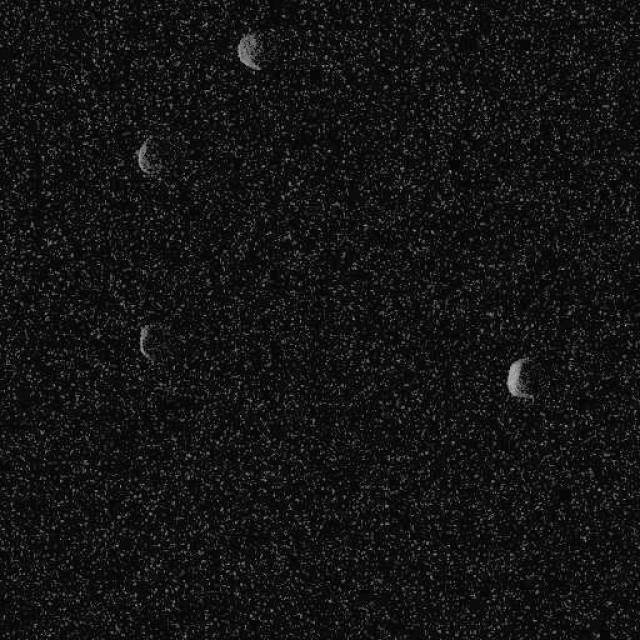D2: (134, 134, 165, 178), (505, 356, 535, 400), (138, 321, 168, 364), (236, 31, 262, 71)
